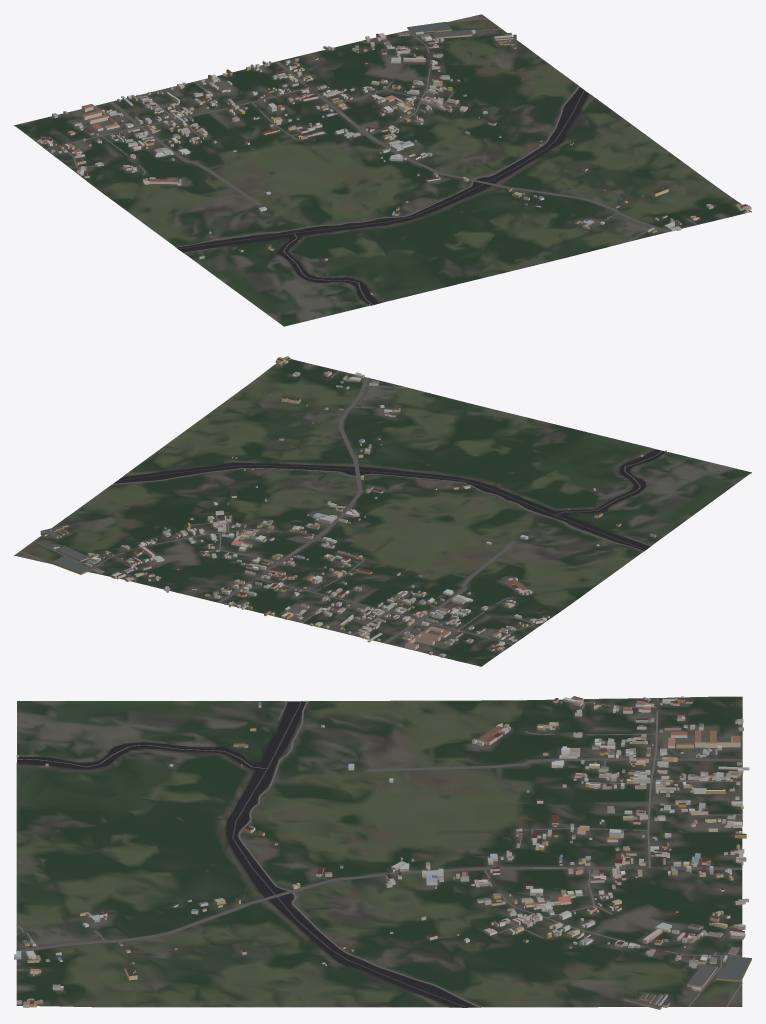
The picture shows the model from 3 angles, top to bottom: view 1: azimuth 30°, elevation 25°; view 2: azimuth 150°, elevation 25°; view 3: azimuth 270°, elevation 25°; orthographic projection. The views are drawn at different scales.
Parts seen in each view (by area): view 1: ground, buildings, water, roads; view 2: ground, buildings, water, roads; view 3: ground, buildings, water, roads.
Part boxes in pixels (left/top/right/bottom): ground: left=14, top=14, right=751, bottom=326; buildings: left=37, top=22, right=751, bottom=305; water: left=177, top=87, right=588, bottom=305; roads: left=46, top=18, right=697, bottom=253; ground: left=14, top=357, right=751, bottom=666; buildings: left=40, top=356, right=666, bottom=657; water: left=114, top=449, right=664, bottom=550; roads: left=19, top=370, right=651, bottom=644; ground: left=16, top=696, right=742, bottom=1007; buildings: left=14, top=696, right=751, bottom=1009; water: left=17, top=701, right=476, bottom=1007; roads: left=16, top=698, right=742, bottom=1007.
Size of the model in its own units: 1412 by 22.86 by 1424.
